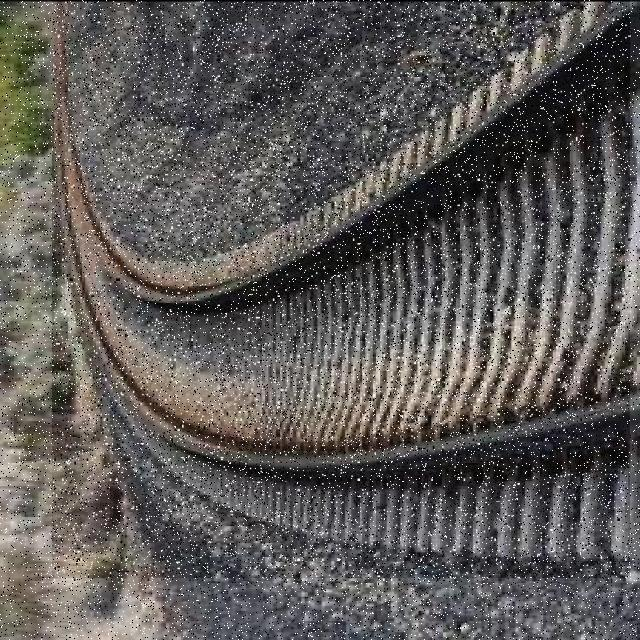rail: (53, 2, 631, 579)
